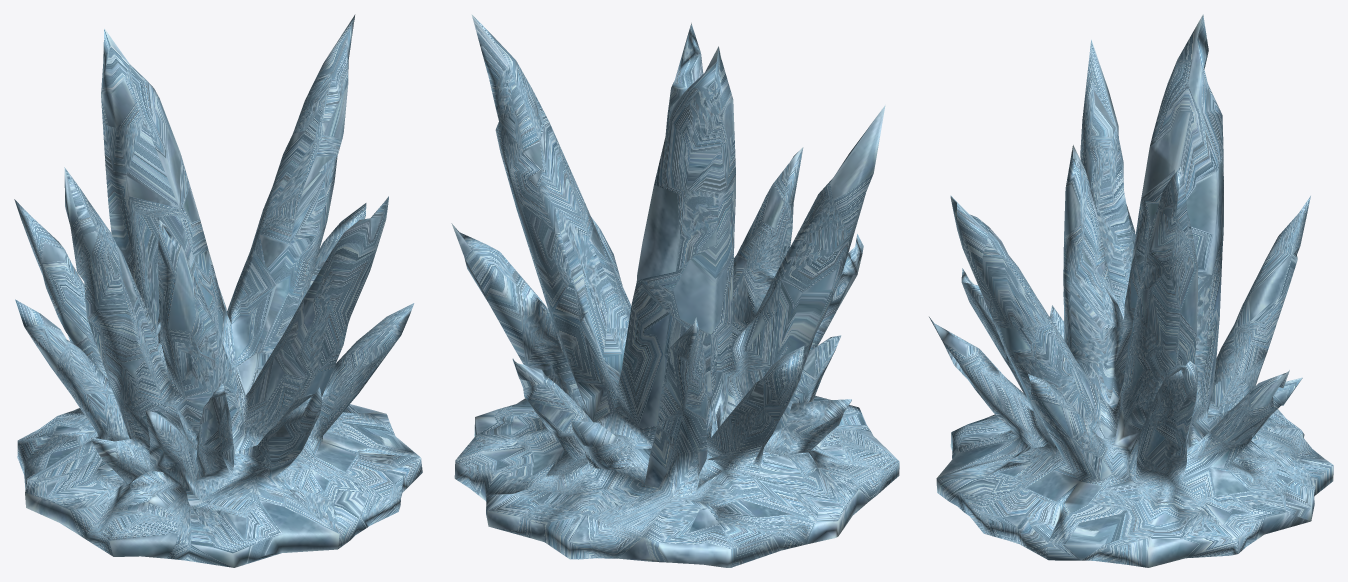
The model's file is ice-crystal.glb.
3 views of the same model, side by side, from view 1: azimuth 30°, elevation 25°; view 2: azimuth 150°, elevation 25°; view 3: azimuth 270°, elevation 25° (orthographic). The views are drawn at different scales.
Size of the model in its own units: 1.57 by 1.89 by 1.61.
1 material, 1 textured.
